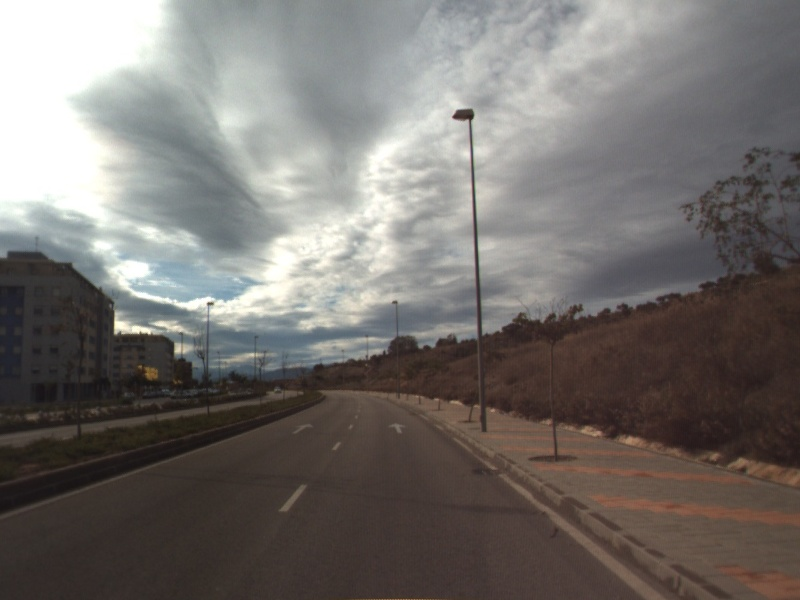STRAIGHT: (290, 421, 316, 436), (386, 421, 408, 435)
